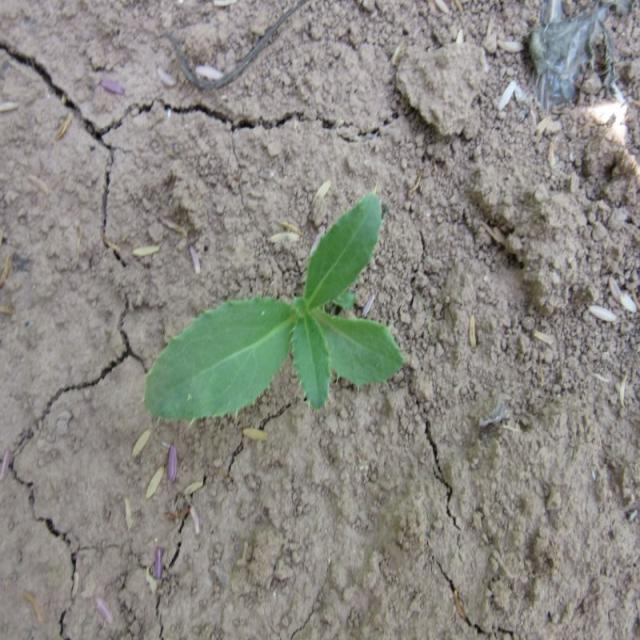field_thistle: (115, 182, 394, 456)
